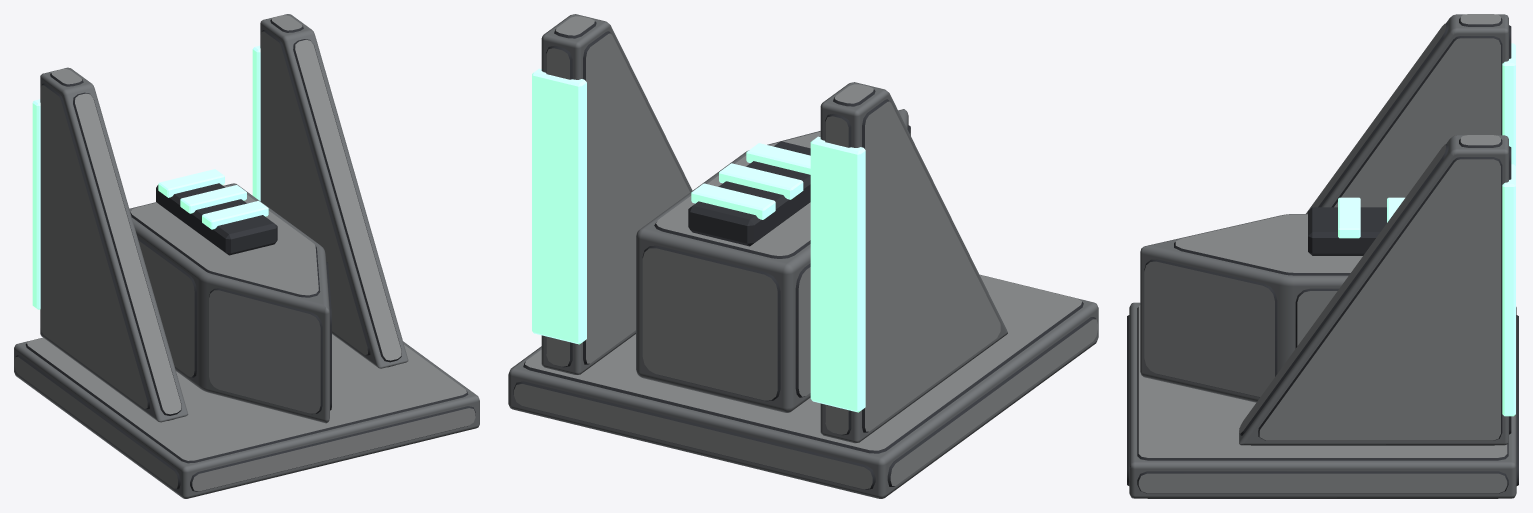
Rendered from R4X_MobilityBooster.glb.
3 views of the same model, side by side, from view 1: azimuth 30°, elevation 25°; view 2: azimuth 150°, elevation 25°; view 3: azimuth 270°, elevation 25° (orthographic). The views are drawn at different scales.
Parts seen in each view (by area): view 1: R4X_MobilityBooster_Body; view 2: R4X_MobilityBooster_Body; view 3: R4X_MobilityBooster_Body.
Boxes of the visible parts, bbox=[...] form: R4X_MobilityBooster_Body: bbox=[14, 14, 479, 498]; R4X_MobilityBooster_Body: bbox=[508, 14, 1098, 498]; R4X_MobilityBooster_Body: bbox=[1127, 14, 1518, 498].
Size of the model in its own units: 0.52 by 0.5 by 0.52.
